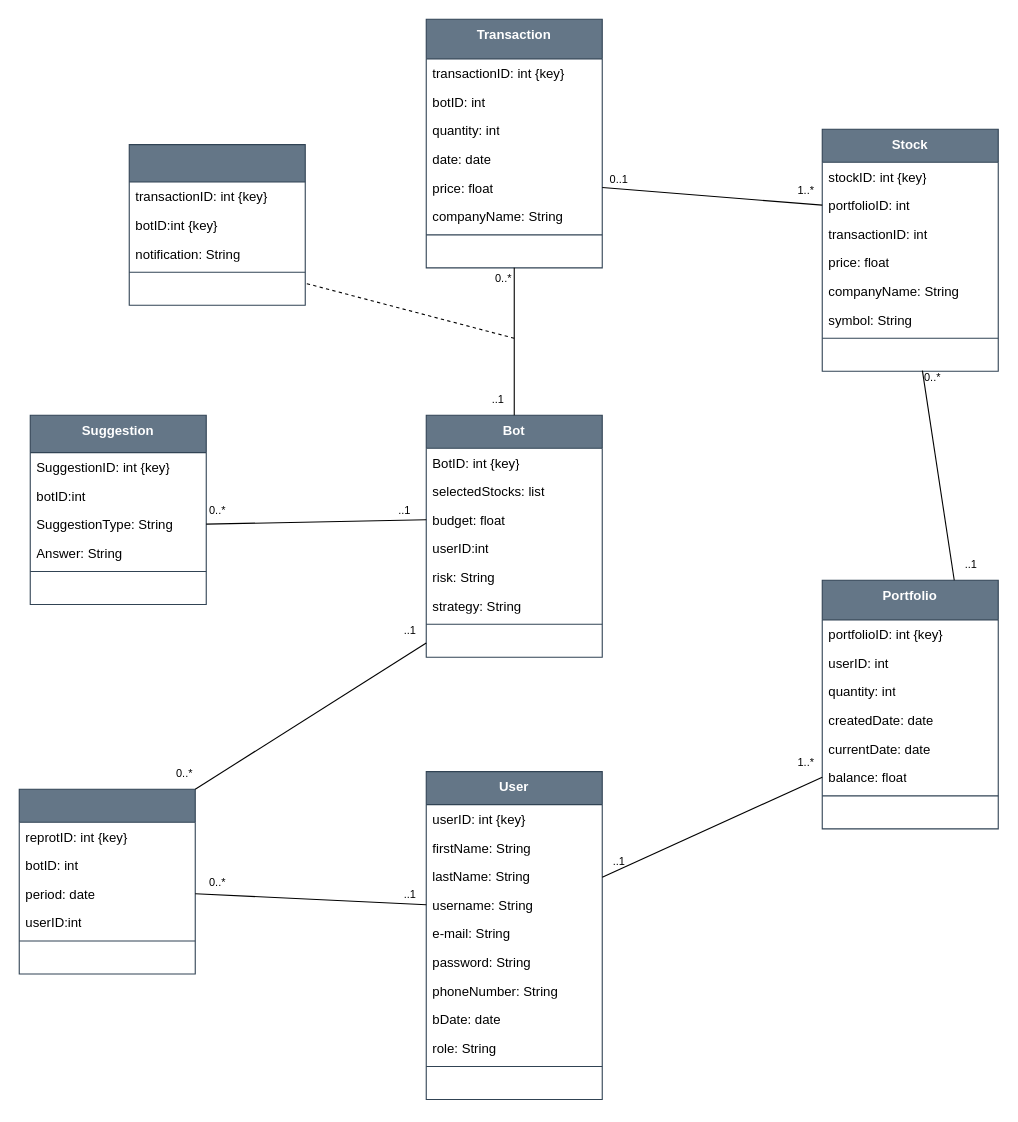
This 1018x1122 diagram has some shape labels left out. The shapes that lost their labels are listed below. From the top down, each one's box as (x1, y1, x2, y2) in pixels, then its label:
(128, 144, 305, 305): MakeTranaction
(18, 788, 195, 974): Report
